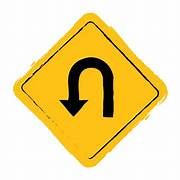back: (13, 12, 169, 167)
